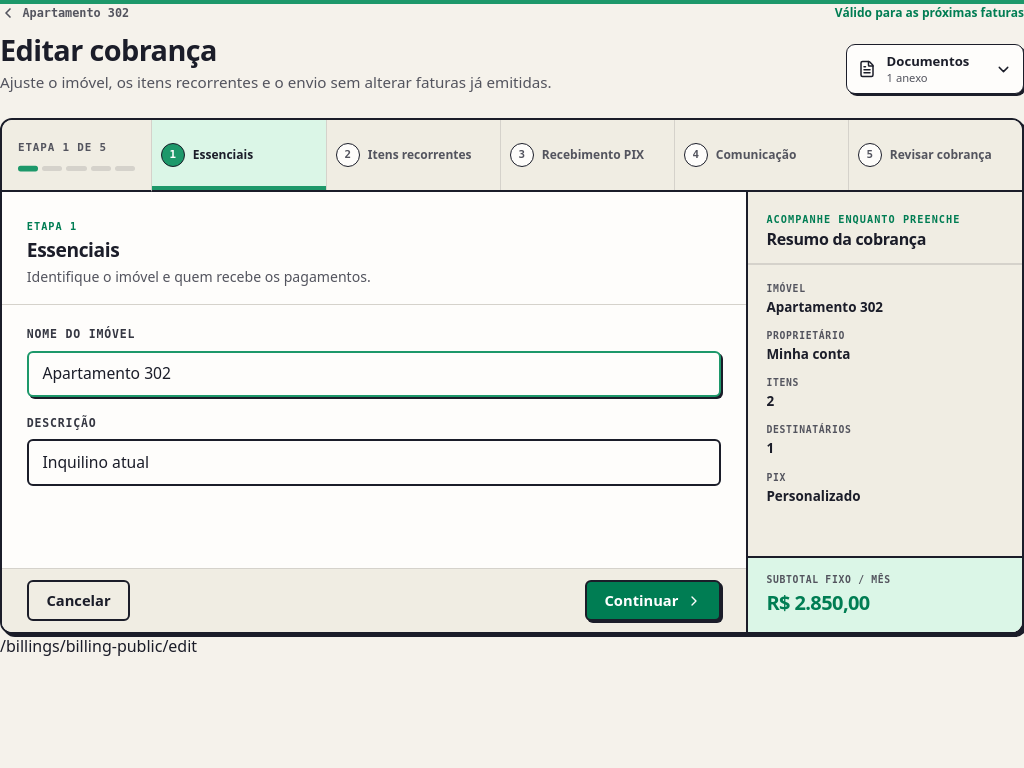
Test: keeps document management secondary until the landlord requests it
This screenshot has width=1024, height=768.
What coordinates should you click on to do the following:
click the button with aria-label "Gerenciar documentos, 1 anexo"
I would click on:
 (935, 69)
Its box is [846,44,1023,94].
(page scrolled)
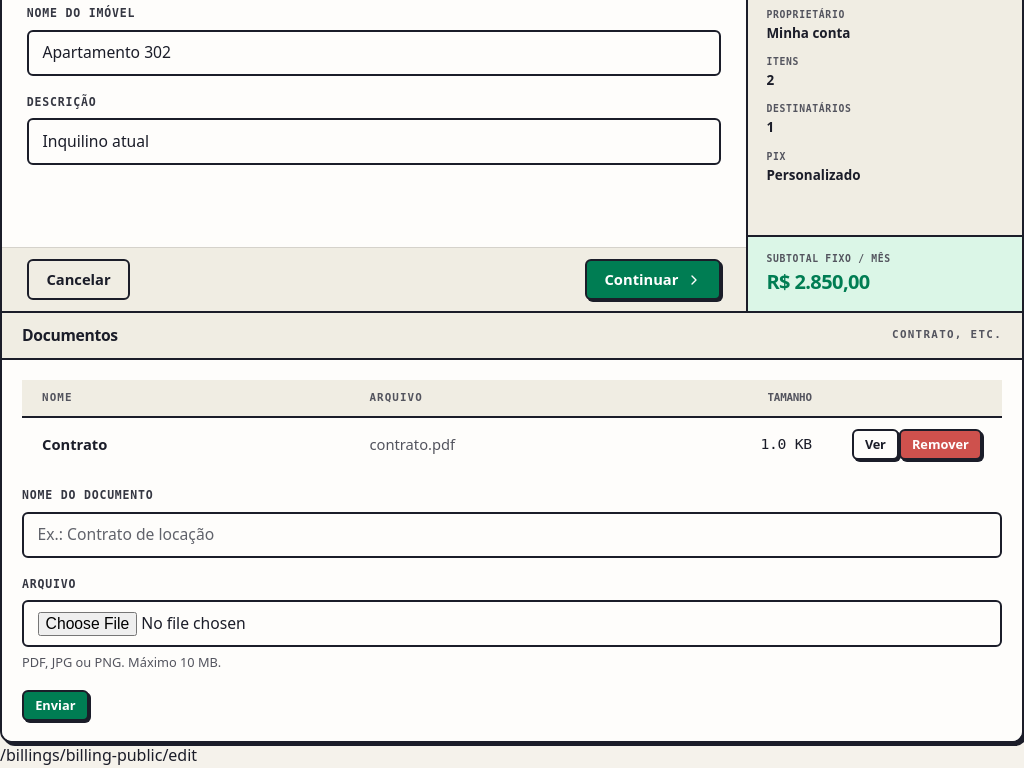
Expected: the element named "Documentos da cobrança" is shown, [2,311,1022,741]
Expected: the text "Contrato" is shown, [22,417,349,471]
